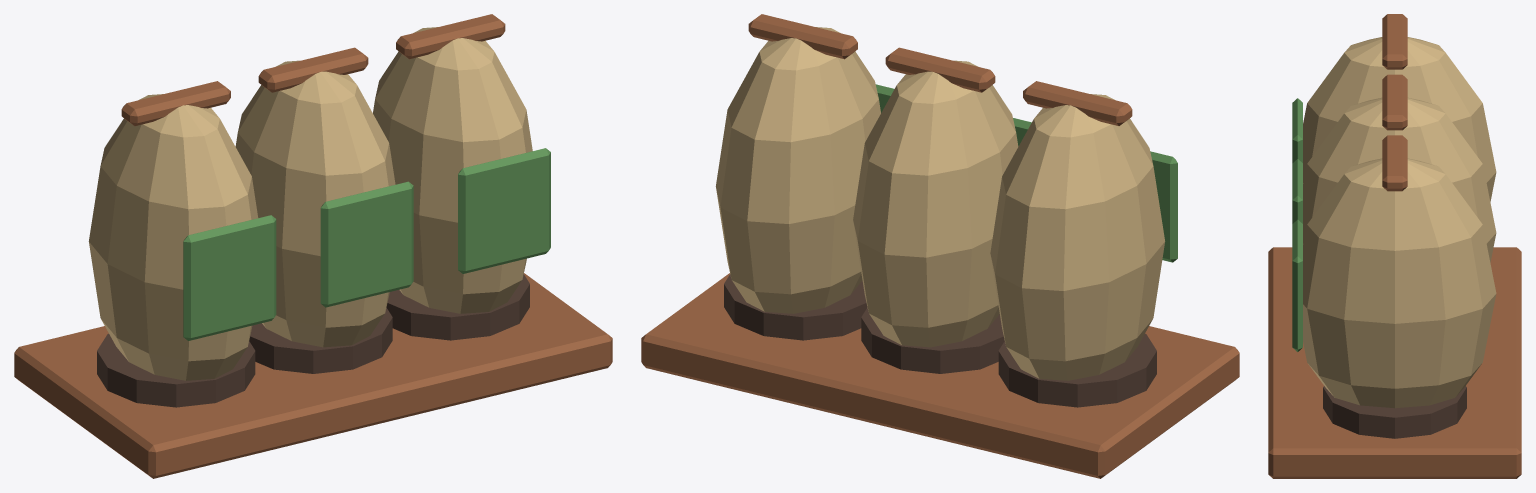
Rendered from soilbags.glb.
3 views of the same model, side by side, from view 1: azimuth 30°, elevation 25°; view 2: azimuth 150°, elevation 25°; view 3: azimuth 270°, elevation 25° (orthographic). The views are drawn at different scales.
Visible parts, largest first — view 1: Target0, Base, Target1, Target2, Remnant0, Remnant1, Remnant2; view 2: Target0, Base, Target1, Target2, Remnant0, Remnant1, Remnant2; view 3: Target2, Base, Target1, Target0, Remnant2.
Part boxes in pixels (<box>): Target0: <box>88,81,276,380</box>; Base: <box>14,273,612,478</box>; Target1: <box>235,47,413,347</box>; Target2: <box>373,14,550,313</box>; Remnant0: <box>97,333,255,407</box>; Remnant1: <box>249,307,392,373</box>; Remnant2: <box>386,274,529,340</box>; Target0: <box>990,81,1177,380</box>; Base: <box>641,273,1239,478</box>; Target1: <box>853,47,1031,347</box>; Target2: <box>715,14,894,313</box>; Remnant0: <box>998,333,1156,407</box>; Remnant1: <box>861,307,1004,373</box>; Remnant2: <box>724,274,867,340</box>; Target2: <box>1292,135,1496,408</box>; Base: <box>1268,247,1521,478</box>; Target1: <box>1292,74,1496,262</box>; Target0: <box>1292,14,1496,201</box>; Remnant2: <box>1323,386,1466,438</box>.
Size of the model in its own units: 1.15 by 0.74 by 0.6.
